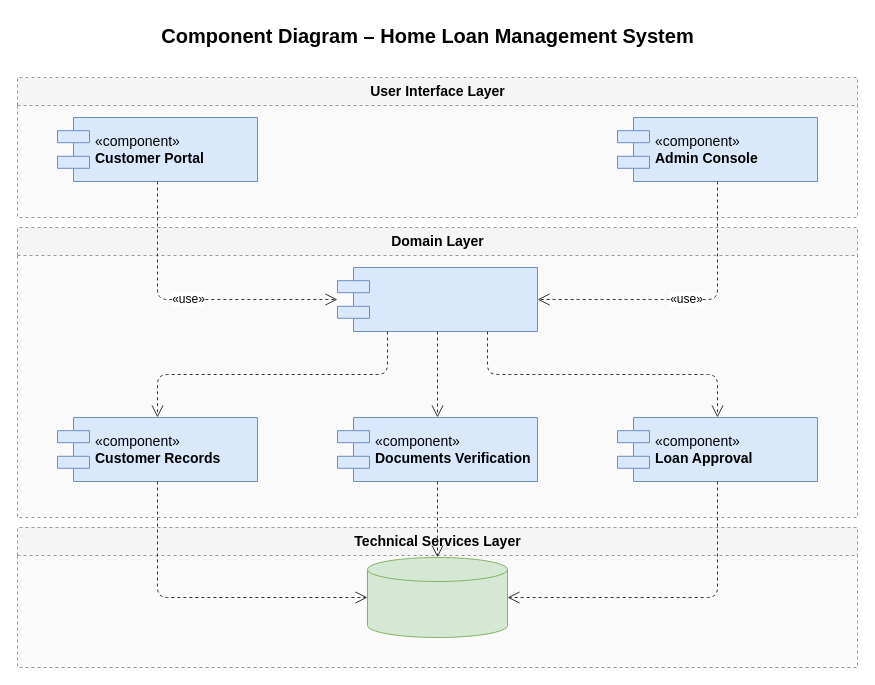
The diagram is 875 pixels wide and 685 high, and some of its shapes have lost their labels. Each missing label, with the centre of its shape:
"Loan DB" belongs at point (437, 597).
"«component» Home Loan Management System" belongs at point (437, 299).
